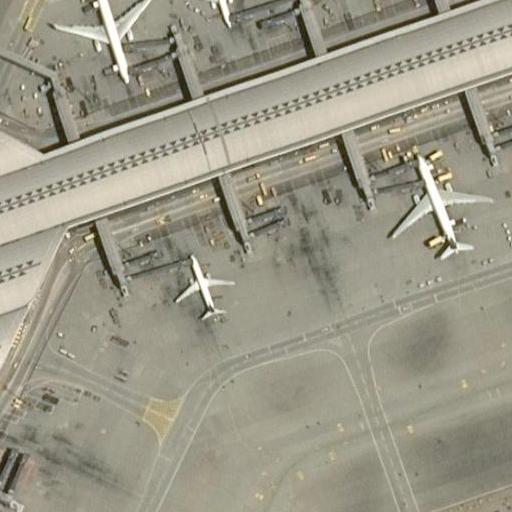Aircraft: (378, 144, 500, 259), (384, 148, 493, 263), (42, 0, 163, 83), (47, 0, 155, 83), (164, 243, 239, 321), (170, 249, 234, 323), (170, 0, 255, 40), (184, 0, 250, 26)
